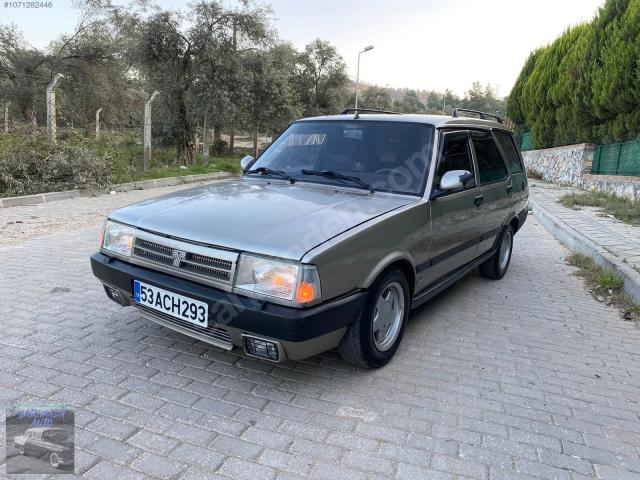plaka: (134, 280, 208, 327)
